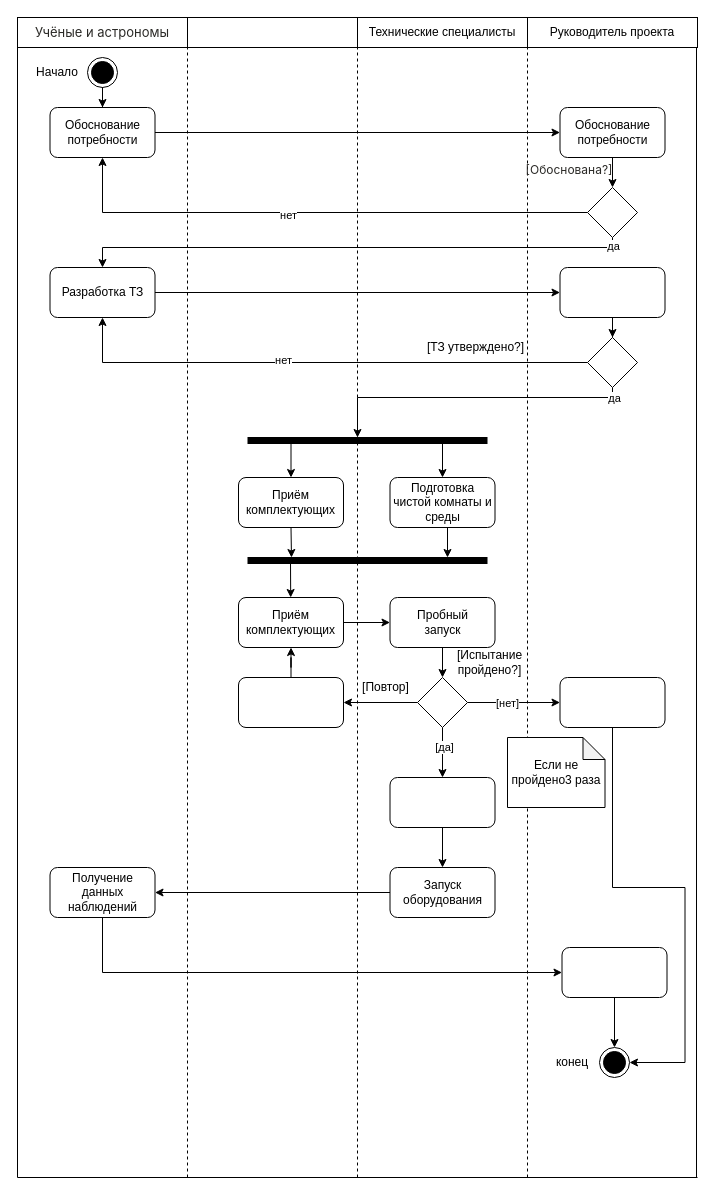
The diagram is 716 pixels wide and 1196 high, and some of its shapes have lost their labels. The centre of each missing label's shape, as x and y in pixels:
"Вывод на орбиту" belongs at pixel 442 802.
"Инженеры-сборщикии механики" belongs at pixel 272 32.
"Оформление отчёта и документации" belongs at pixel 614 972.
"Прекращение проекта" belongs at pixel 612 702.
"Устранение замечаний" belongs at pixel 291 702.
"Утверждение ТЗ" belongs at pixel 612 292.
